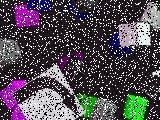Right: (11, 64, 86, 120)
